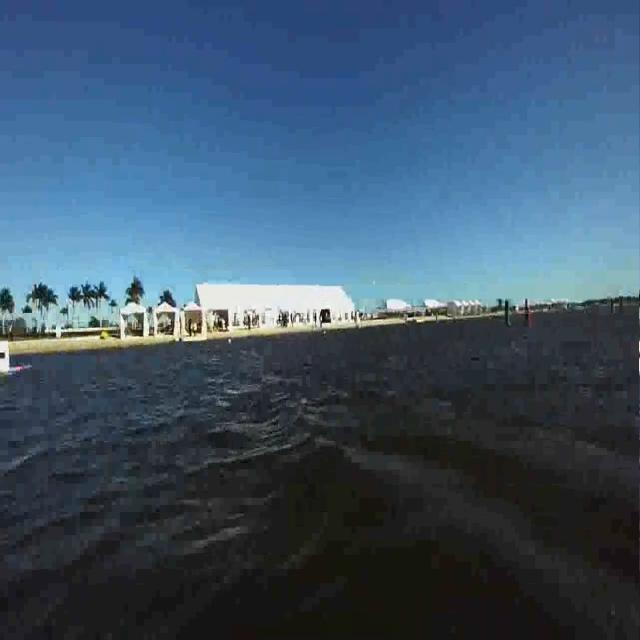green-column-buoy: (501, 298, 512, 327)
